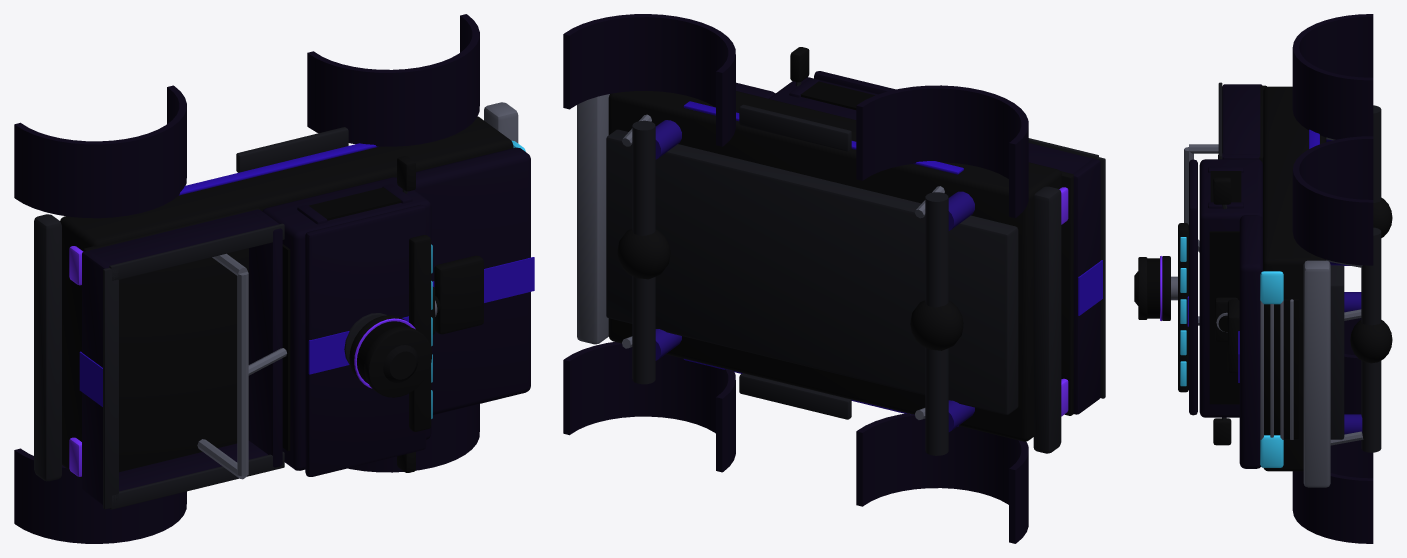
3 views of the same model, side by side, from view 1: azimuth 30°, elevation 25°; view 2: azimuth 150°, elevation 25°; view 3: azimuth 270°, elevation 25° (orthographic). The views are drawn at different scales.
Visible parts, largest first — view 1: base; view 2: base; view 3: base.
Boxes of the visible parts, x1,y1,x2,y2 form: base: (14,14,534,543); base: (563,14,1105,543); base: (1134,14,1392,543).
Size of the model in its own units: 0.5175 by 0.417 by 0.2857.
